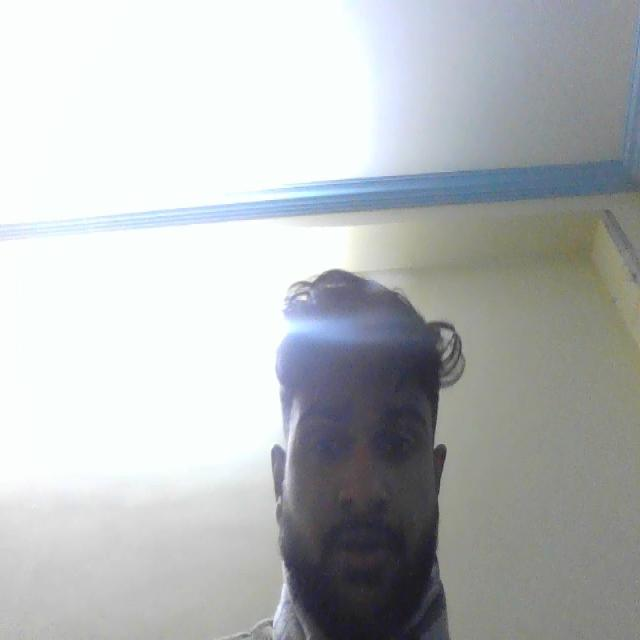real: (256, 255, 458, 637)
